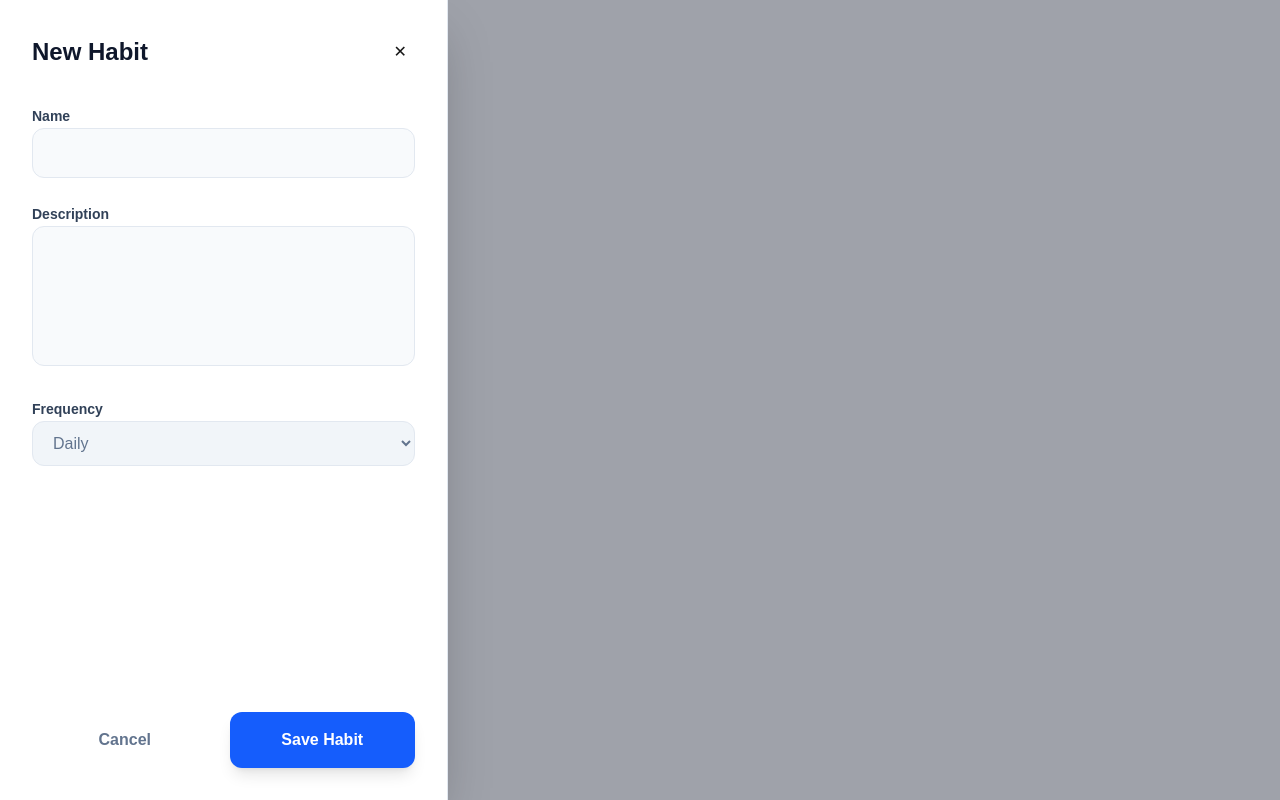
Scenario: HabitForm Requirements › shows a validation error when habit name is empty
Click the button with test id "habit-save-button": (322, 740) top-left (230, 712), bottom-right (415, 768)
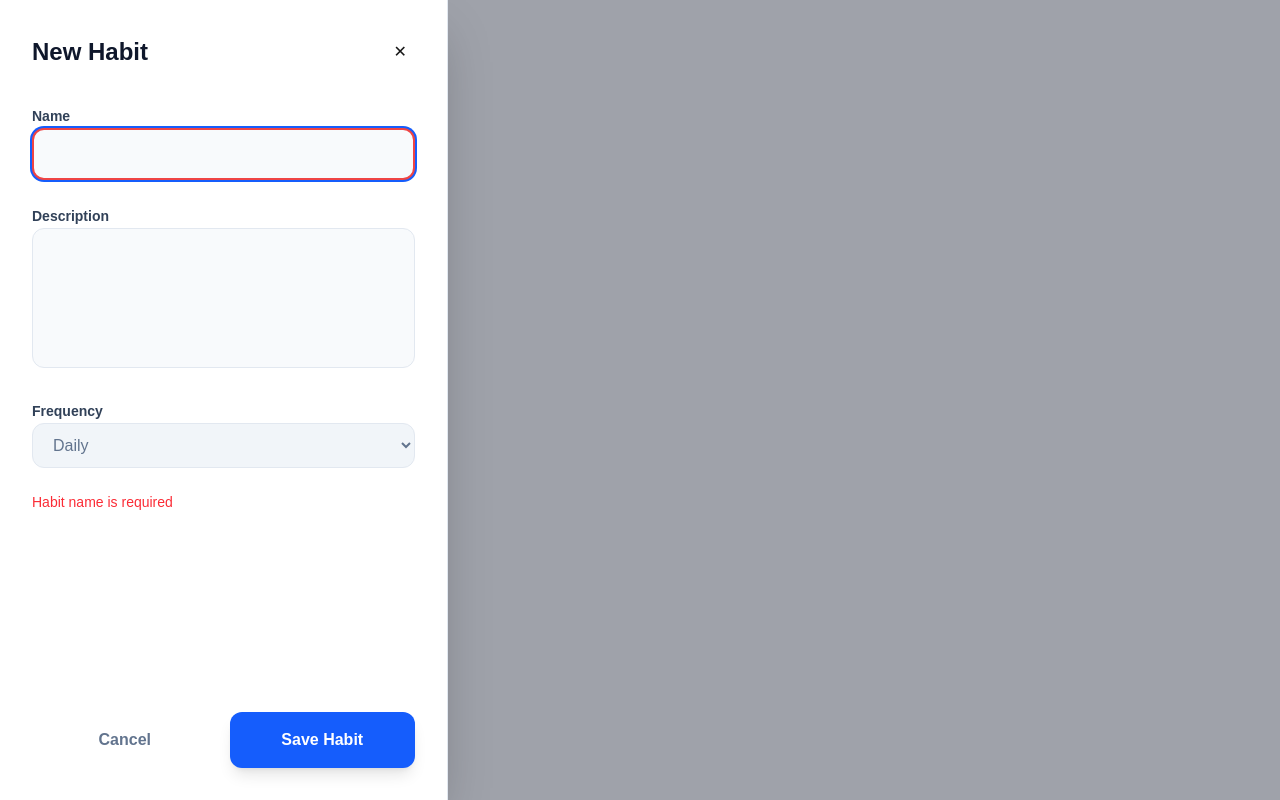
Check: the text "Habit name is required" is shown, box top-left (32, 494), bottom-right (173, 510)
